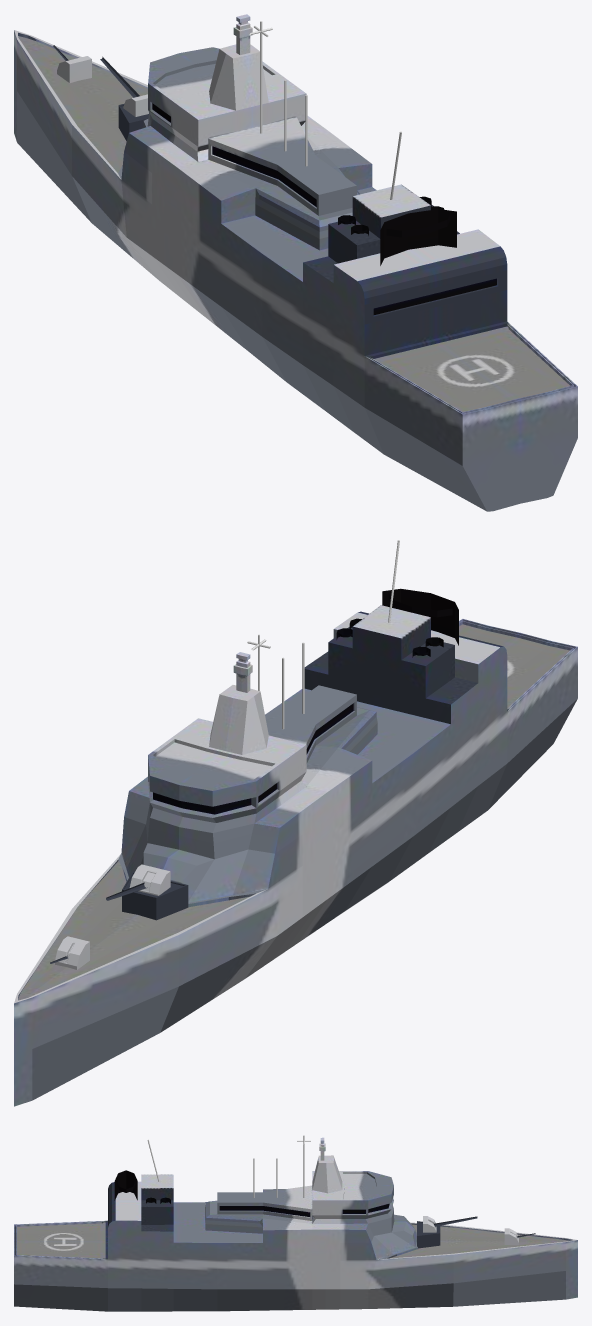
Rendered from barco_3.fbx.
3 renders of one model, top to bottom at view 1: azimuth 30°, elevation 25°; view 2: azimuth 150°, elevation 25°; view 3: azimuth 270°, elevation 25°, orthographic. The views are drawn at different scales.
Visible parts, largest first — view 1: barco_3, Circle.004, Cube.029; view 2: barco_3, Circle.004, Cube.035, Cube.038, Cube.029; view 3: barco_3, Circle.004, Cube.035.
Part boxes in pixels (<box>): barco_3: <box>14,14,577,511</box>; Circle.004: <box>380,209,456,265</box>; Cube.029: <box>57,56,91,82</box>; barco_3: <box>14,605,577,1106</box>; Circle.004: <box>382,588,458,645</box>; Cube.035: <box>122,871,188,920</box>; Cube.038: <box>129,864,170,895</box>; Cube.029: <box>55,936,89,969</box>; barco_3: <box>14,1137,577,1311</box>; Circle.004: <box>114,1170,137,1200</box>; Cube.035: <box>417,1221,440,1248</box>.
Bounding box in the file's own units: 306 × 566 × 1779.
